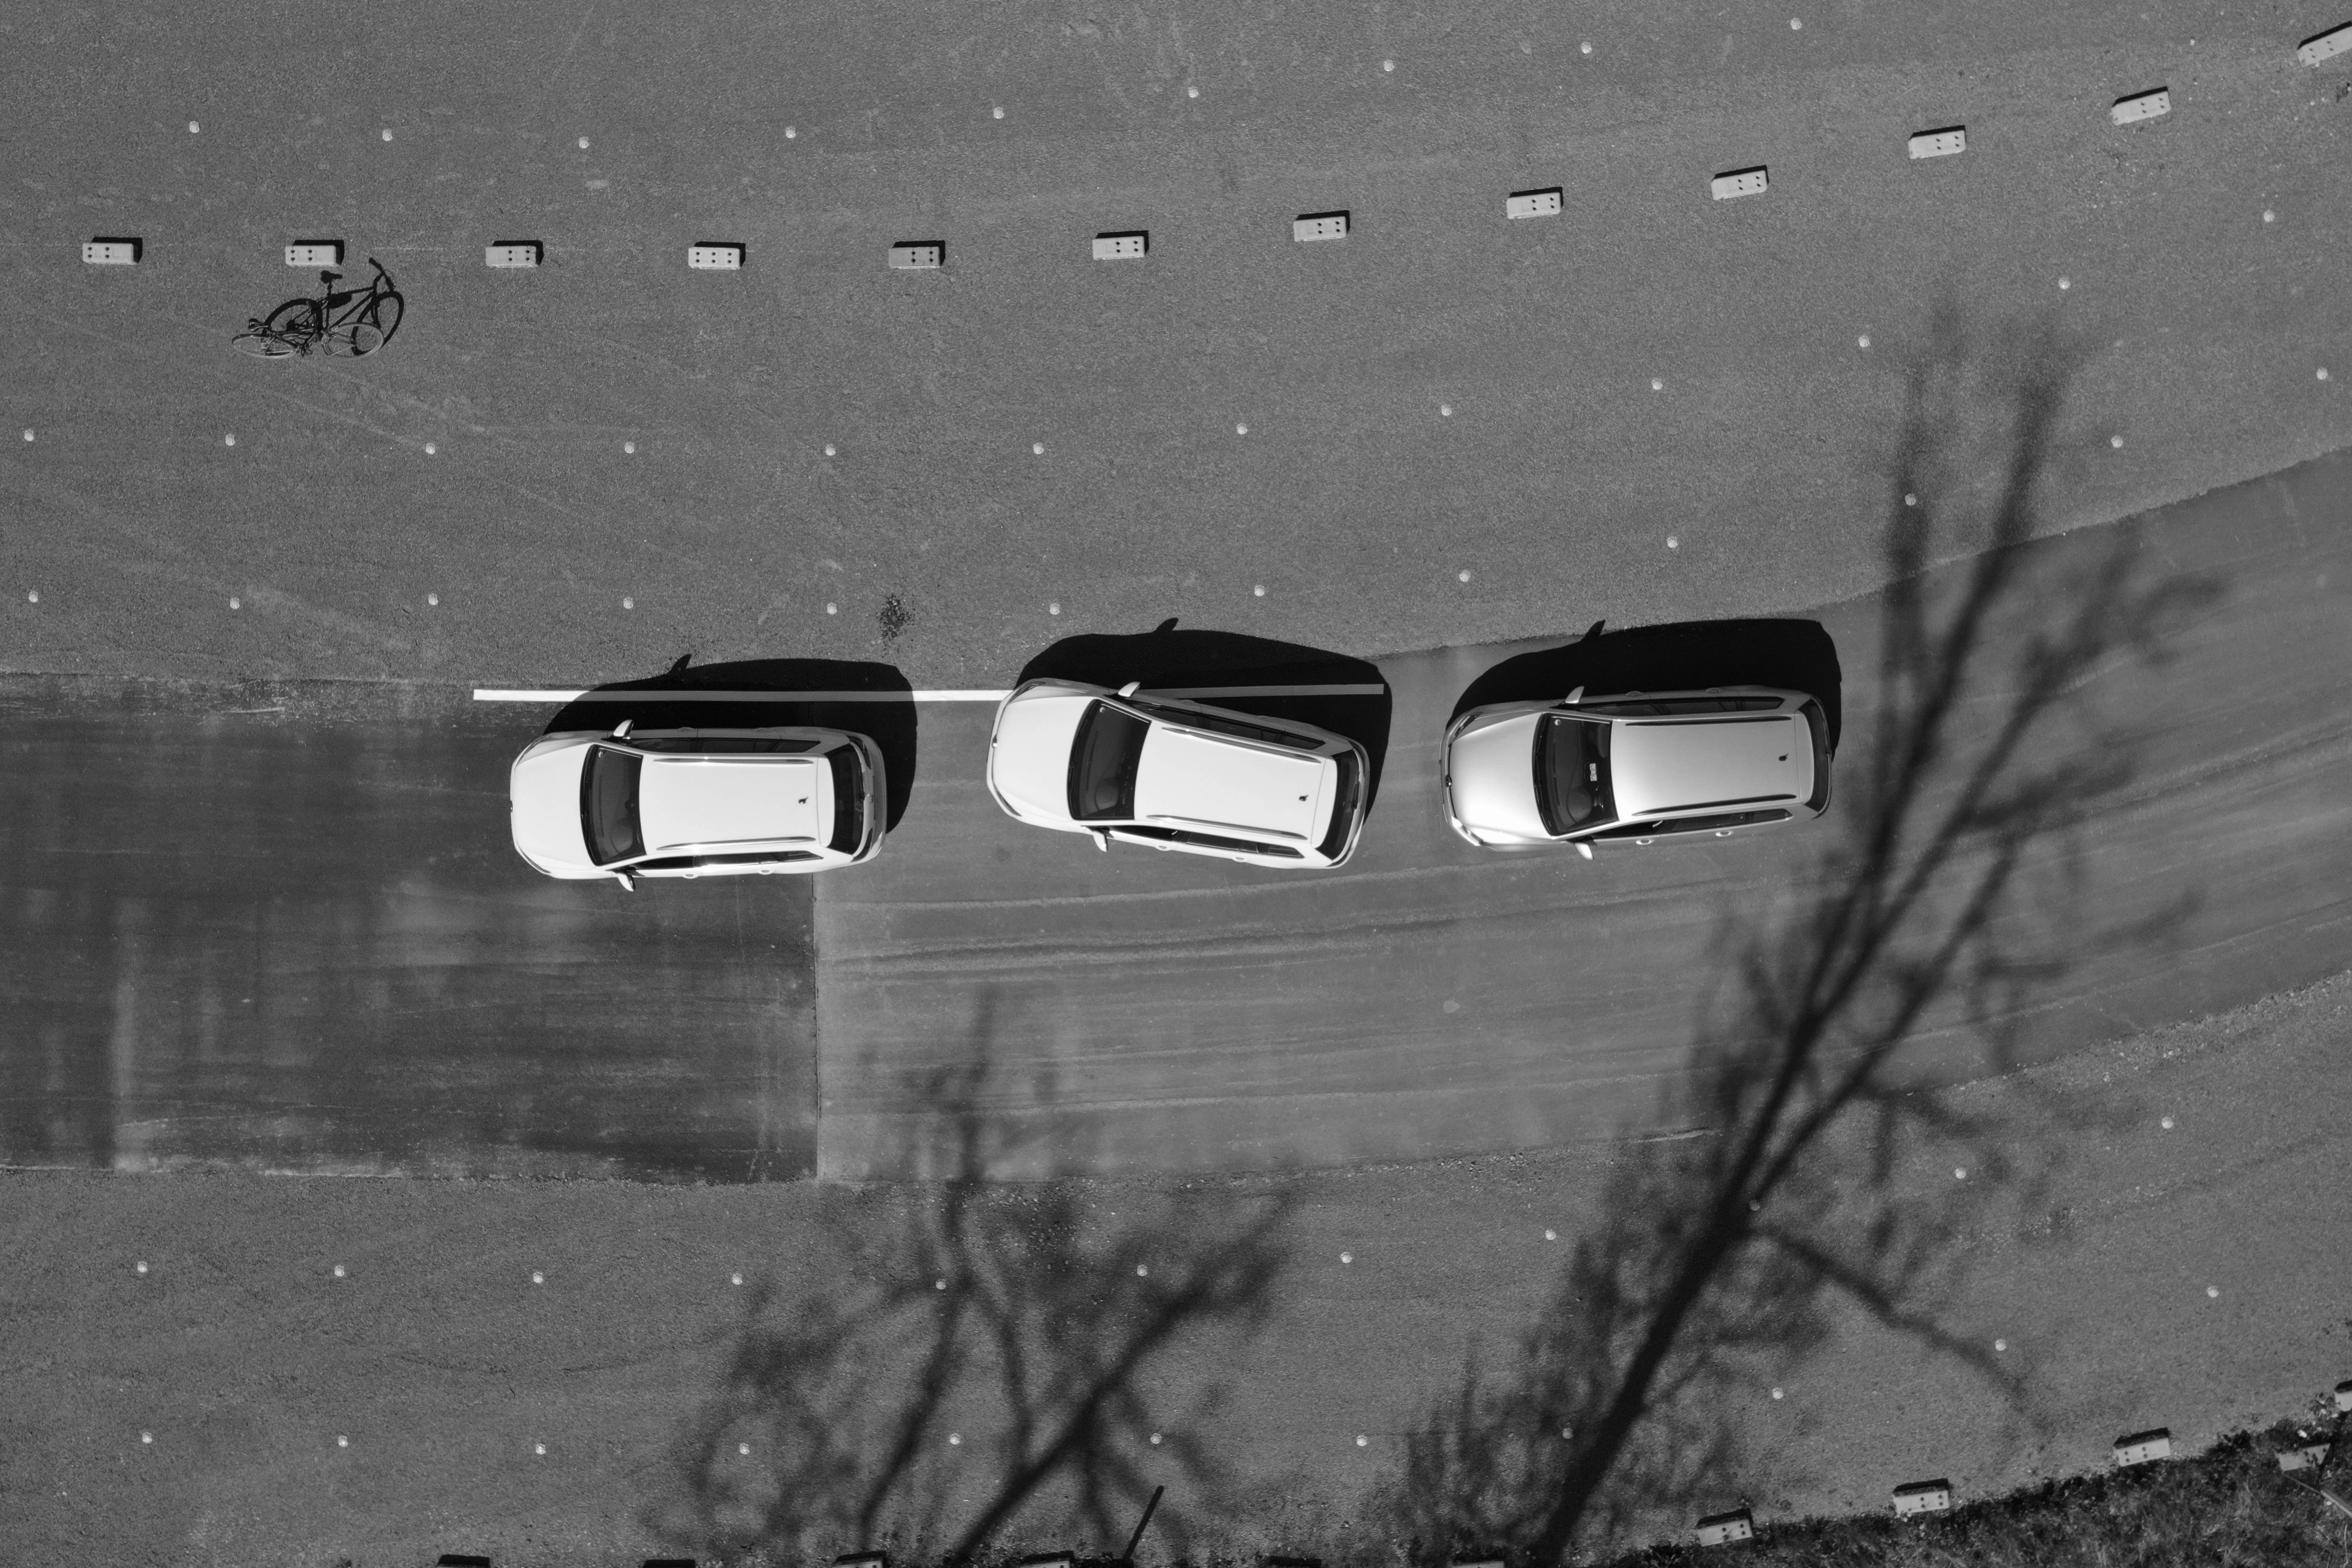Car: (985, 661, 1379, 875), (513, 716, 901, 887), (1433, 682, 1850, 828)
LaneMark: (472, 681, 1389, 705)
